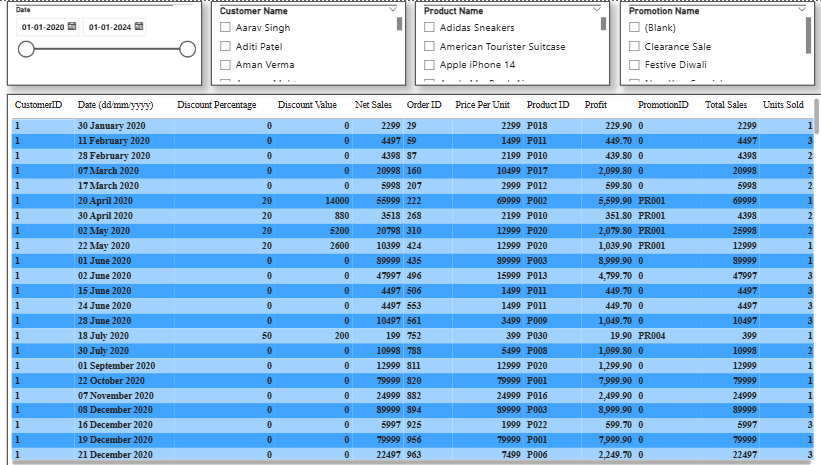

The dashboard page shown, as its layout file describes it:
{"tool":"powerbi","page":{"name":"Table Visual","canvas":[1280,720],"ordinal":3},"visuals":[{"type":"tableEx","fields":{"Values":["Fact Table.CustomerID","Fact Table.Date (dd/mm/yyyy)","Fact Table.Discount Percentage","Fact Table.Discount Value","Fact Table.Net Sales","Fact Table.Order ID","Fact Table.Price Per Unit","Fact Table.Product ID","Fact Table.Profit","Fact Table.PromotionID","Fact Table.Total Sales","Fact Table.Units Sold"]},"box":[11.7,143.4,1255.6,576.6],"z":0},{"type":"slicer","fields":{"Values":["Date table 1.Date"]},"box":[11.7,0,300,130.2],"z":1},{"type":"slicer","fields":{"Values":["Dim Customers.Customer Name"]},"box":[326.3,0,300,130.2],"z":2},{"type":"slicer","fields":{"Values":["Dim Product.Product Name"]},"box":[639.5,0,300,130.2],"z":3},{"type":"slicer","fields":{"Values":["Dim Promotion.Promotion Name"]},"box":[955.6,0,300,130.2],"z":4}]}

Visuals, with their boxes on the page's 1280x720 design canvas (x1, y1, x2, y2). These are canvas units, not pixel positions in the 821x465 screenshot, which may show the page scaled, cropped or inside an application window:
tableEx - Fact Table.CustomerID x Fact Table.Date (dd/mm/yyyy): 12/143/1267/720
slicer - Date table 1.Date: 12/0/312/130
slicer - Dim Customers.Customer Name: 326/0/626/130
slicer - Dim Product.Product Name: 640/0/940/130
slicer - Dim Promotion.Promotion Name: 956/0/1256/130
